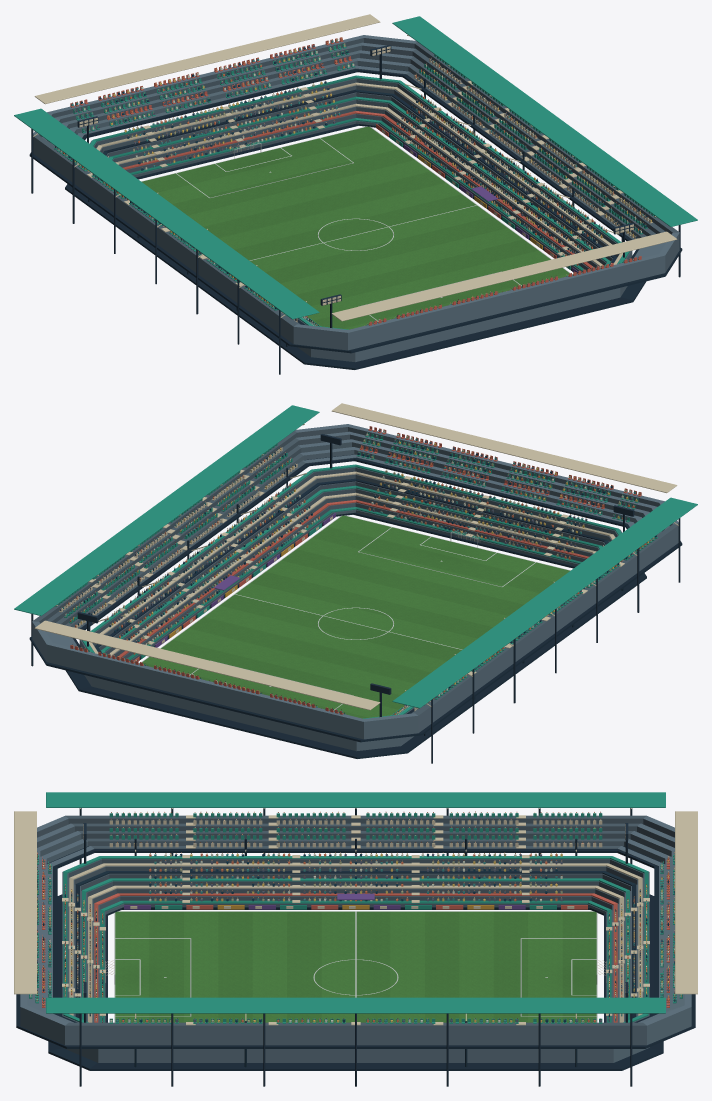
Rendered from soccer-stadium.glb.
The picture shows the model from 3 angles, top to bottom: view 1: azimuth 30°, elevation 25°; view 2: azimuth 150°, elevation 25°; view 3: azimuth 270°, elevation 25°; orthographic projection. The views are drawn at different scales.
Parts seen in each view (by area): view 1: pitch_surface, upper_stands, stand_shell, roof, seating, crowd_v4, upper_seats, beams, field_markings, aisles, advertising_boards, upper_aisles (+1 smaller); view 2: pitch_surface, upper_stands, stand_shell, roof, seating, crowd_v4, upper_seats, beams, field_markings, aisles, advertising_boards, upper_aisles (+1 smaller); view 3: pitch_surface, upper_stands, stand_shell, roof, seating, upper_seats, crowd_v4, beams, advertising_boards, field_markings, aisles, upper_aisles.
Boxes of the visible parts, x1,y1,x2,y2 form: pitch_surface: [141, 126, 569, 329]; upper_stands: [29, 35, 682, 353]; stand_shell: [65, 78, 646, 369]; roof: [14, 14, 697, 321]; seating: [90, 75, 629, 329]; crowd_v4: [55, 37, 651, 325]; upper_seats: [54, 37, 656, 325]; beams: [31, 35, 680, 374]; field_markings: [141, 126, 570, 321]; aisles: [143, 87, 594, 317]; advertising_boards: [306, 124, 577, 326]; upper_aisles: [87, 80, 623, 286]; pitch_surface: [142, 515, 570, 718]; upper_stands: [29, 424, 682, 742]; stand_shell: [65, 467, 646, 758]; roof: [14, 403, 697, 710]; seating: [82, 464, 621, 718]; crowd_v4: [60, 429, 656, 714]; upper_seats: [55, 426, 657, 714]; beams: [31, 424, 680, 763]; field_markings: [141, 515, 570, 710]; aisles: [117, 476, 568, 706]; advertising_boards: [134, 513, 405, 715]; upper_aisles: [88, 469, 624, 675]; pitch_surface: [115, 911, 596, 1022]; upper_stands: [16, 815, 695, 1048]; stand_shell: [48, 859, 663, 1070]; roof: [14, 792, 697, 1013]; seating: [63, 856, 648, 1022]; upper_seats: [29, 813, 682, 1023]; crowd_v4: [30, 811, 681, 1022]; beams: [79, 808, 632, 1086]; advertising_boards: [124, 905, 587, 909]; field_markings: [114, 911, 597, 1022]; aisles: [62, 855, 649, 1015]; upper_aisles: [186, 815, 525, 1025].
Bounding box in the file's own units: 114 × 18.12 × 149.
3 materials, 1 textured.
